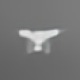plane: (15, 27, 67, 55)
